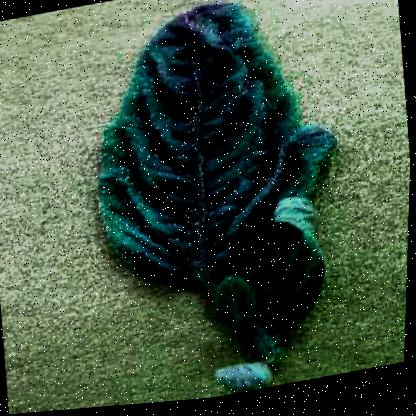Virus: (75, 0, 368, 410)
